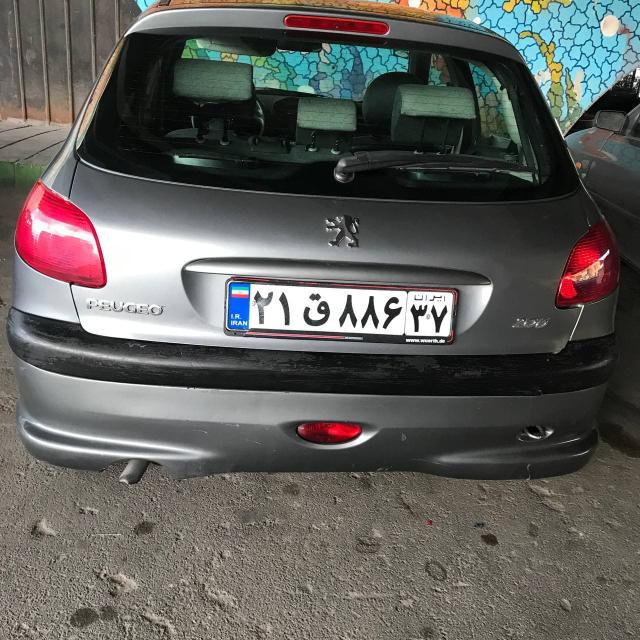Plates: (226, 281, 454, 340)
